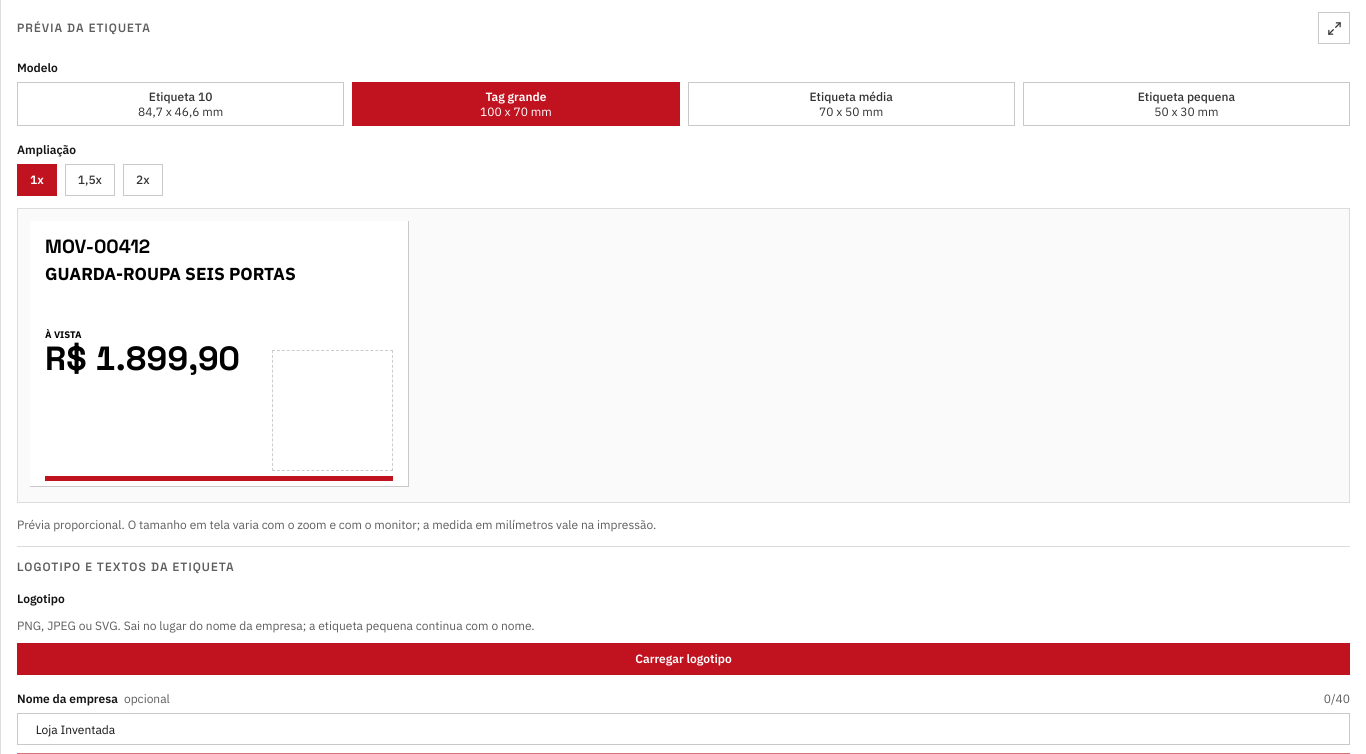
Test: nome da empresa › salva, aparece no cabecalho da etiqueta e fica guardado no dispositivo
Replace the text in the field with "  Loja Inventada  " at (684, 729), box [17,713,1350,745]
(page scrolled)
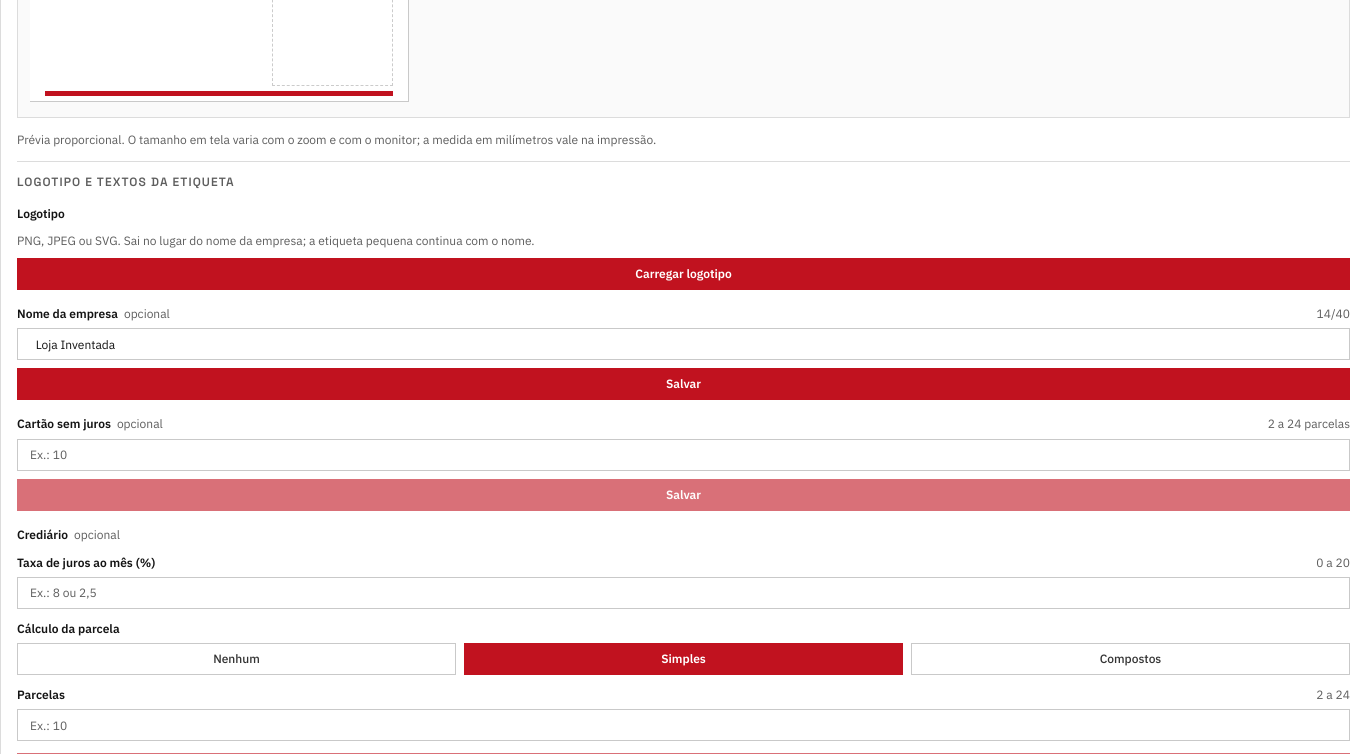
Click the button "Salvar" below "14/40" at (684, 384), box [17,368,1350,400]
(page scrolled)
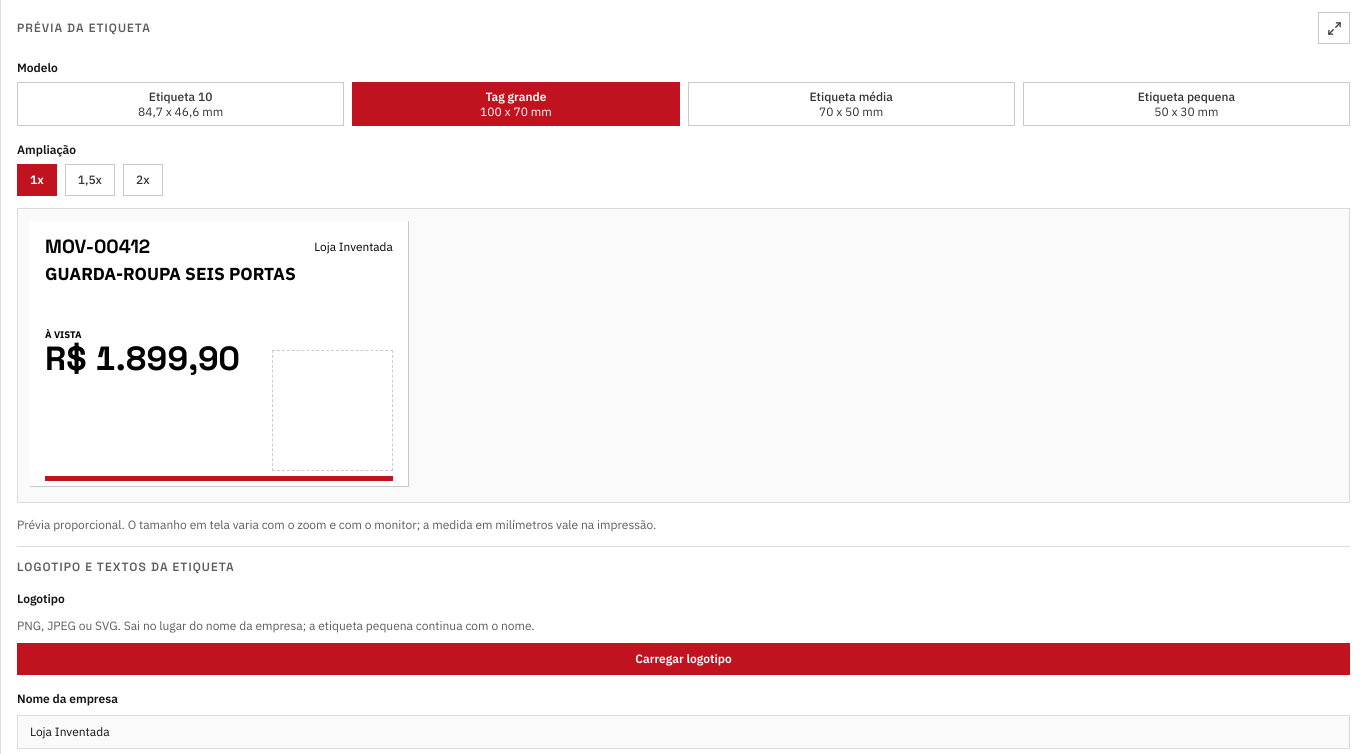
Check: the text "Loja Inventada" below "Logotipo e textos da etiqueta" is shown, box [30,724,110,739]
Check: the text "Loja Inventada" next to "MOV-00412" is shown, box [314,240,393,254]
